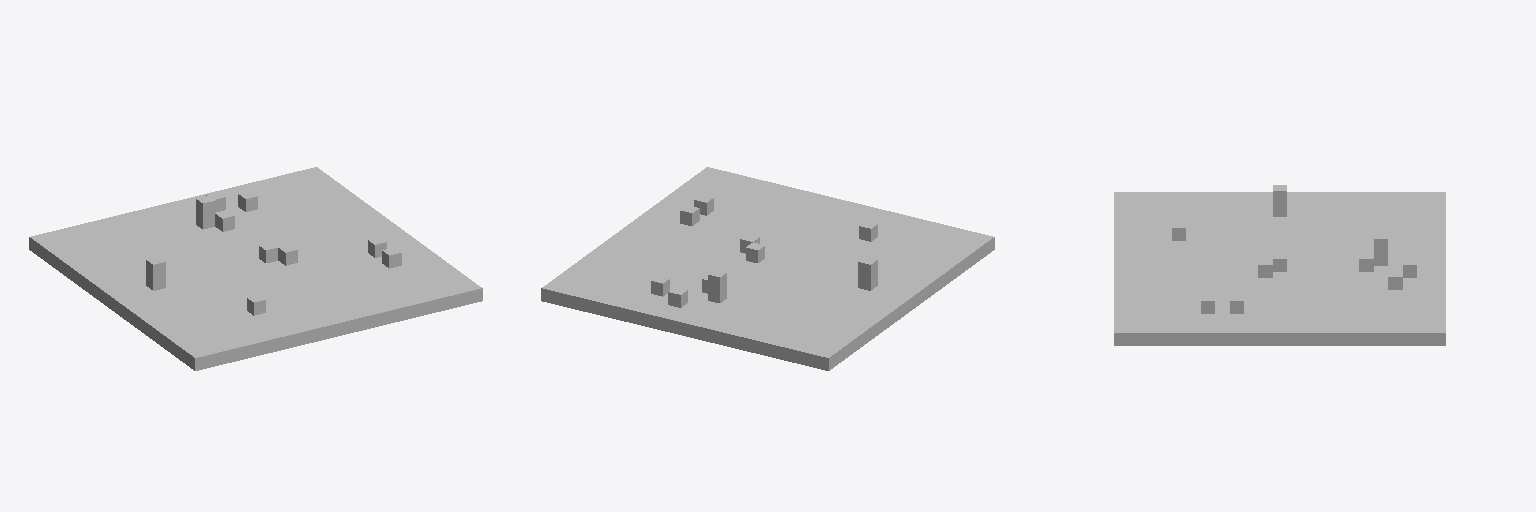
Rendered from Cave Tile 2.obj.
3 renders of one model, left to right at view 1: azimuth 30°, elevation 25°; view 2: azimuth 150°, elevation 25°; view 3: azimuth 270°, elevation 25°, orthographic.
Visible parts, largest first — view 1: object 1; view 2: object 1; view 3: object 1.
Boxes of the visible parts, <box> form: object 1: <box>29,167,482,370</box>; object 1: <box>541,167,994,370</box>; object 1: <box>1114,185,1445,345</box>.
Size of the model in its own units: 2.3 by 0.3 by 2.3.